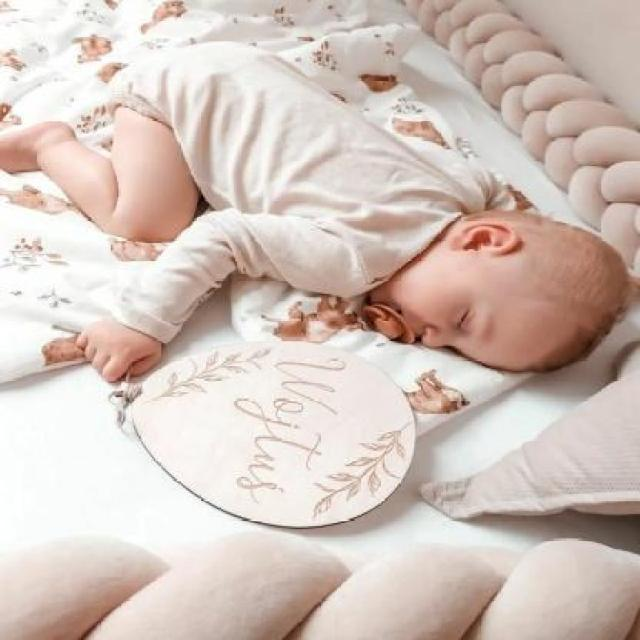baby: (0, 39, 625, 382)
